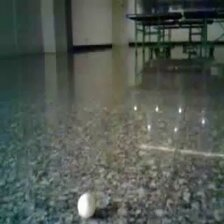w: (76, 193, 96, 217)
